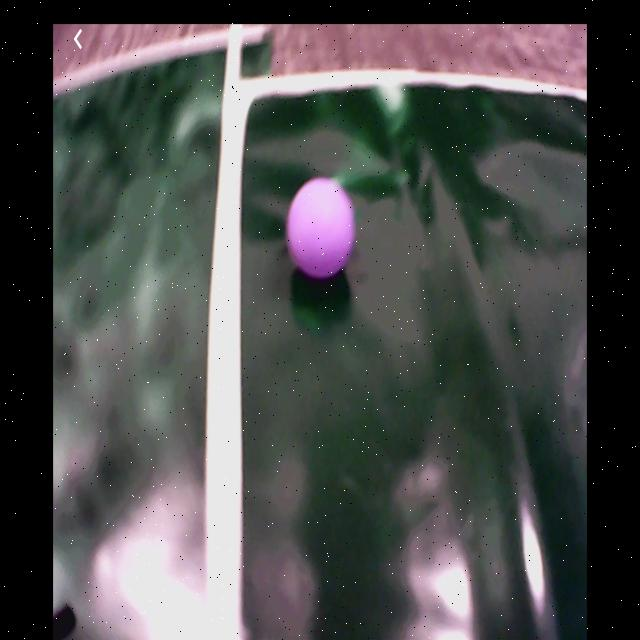ball: (288, 178, 355, 276)
